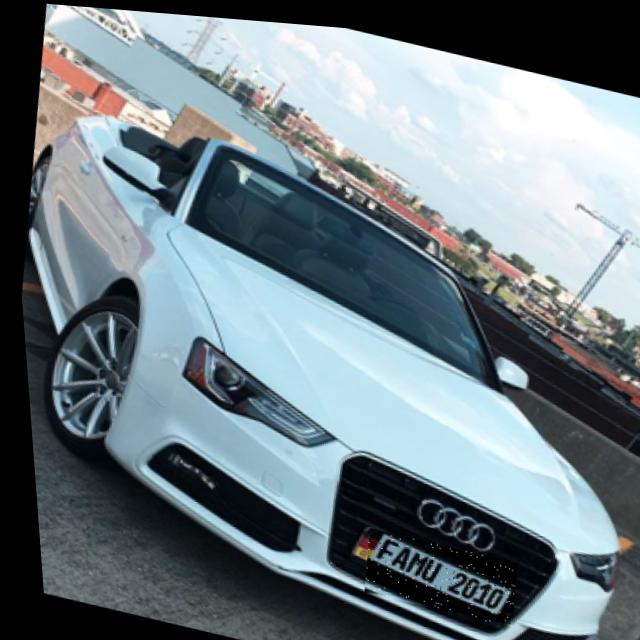license_plate: (352, 523, 513, 621)
